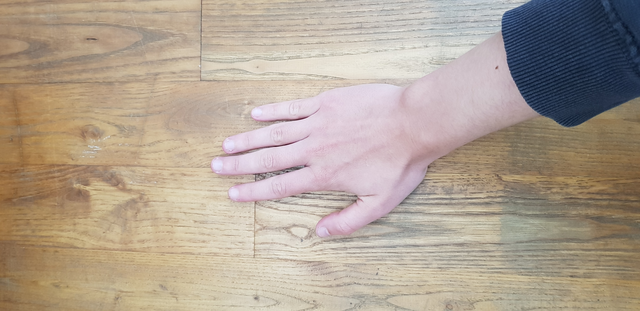Paper: (197, 82, 456, 248)
